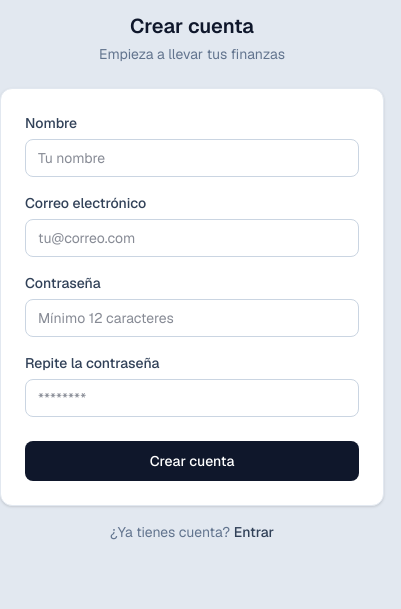
RegisterPage › rejects two different passwords
Step 1. Type " Ana " into the field labelled "Nombre" → (192, 158), box left=25, top=139, right=359, bottom=177
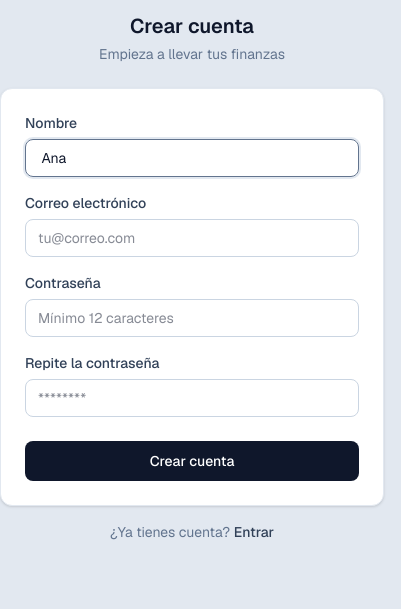
Step 2. Type "ana@test.com" into the field labelled "Correo electrónico" → (192, 238), box left=25, top=219, right=359, bottom=257
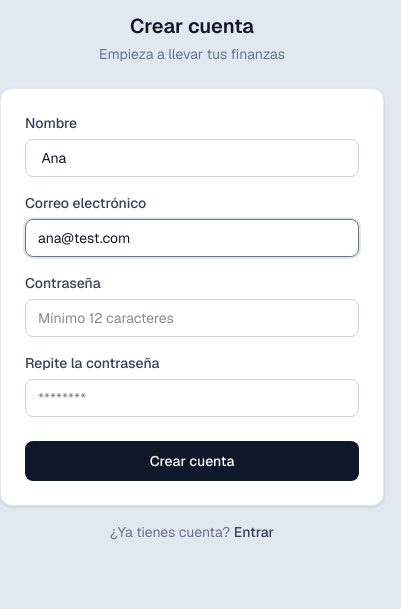
Step 3. Type "una-clave-larga" into the password field labelled "Contraseña" → (192, 318), box left=25, top=299, right=359, bottom=337
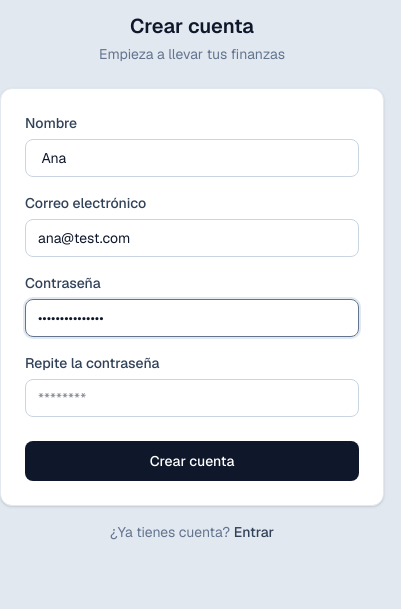
Step 4. Type "otra-clave-larga" into the password field labelled "Repite la contraseña" → (192, 398), box left=25, top=379, right=359, bottom=417
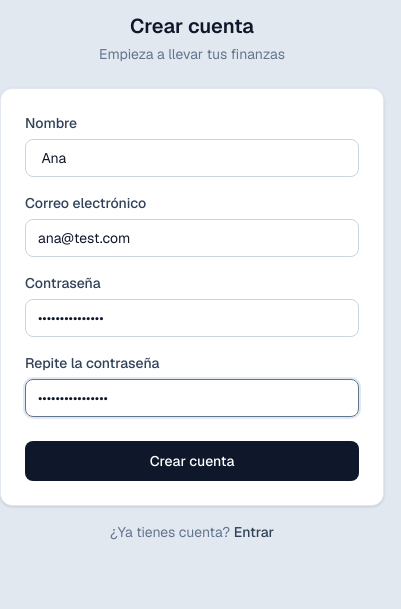
Step 5. Click the button "Crear cuenta" → (192, 461), box left=25, top=441, right=359, bottom=481
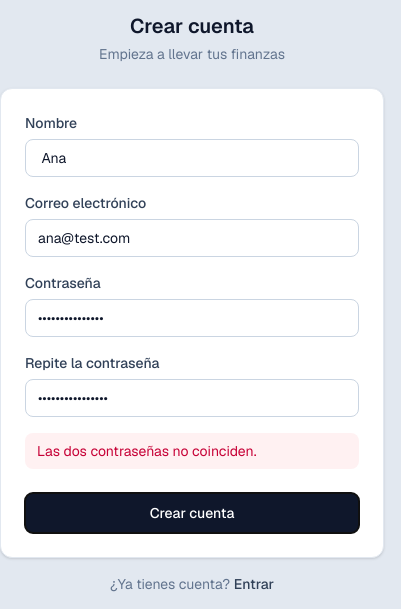
Check: the message reads "Las dos contraseñas no coinciden.", box left=37, top=442, right=256, bottom=460
